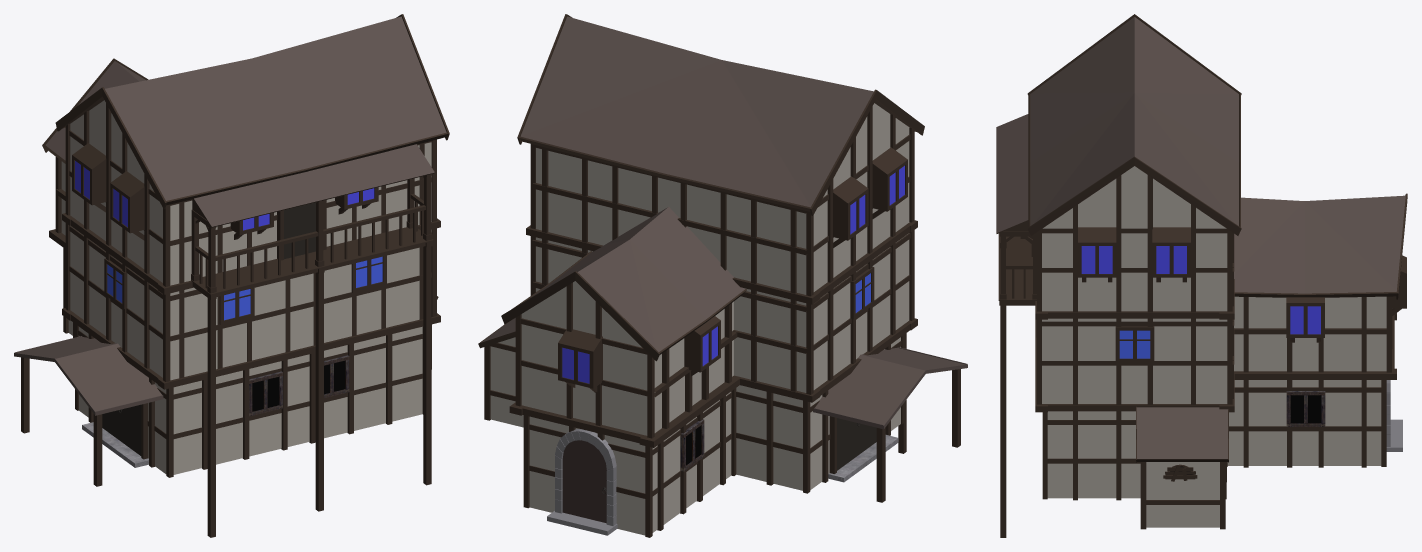
Rendered from House_Cap_6.glb.
The picture shows the model from 3 angles, left to right: view 1: azimuth 30°, elevation 25°; view 2: azimuth 150°, elevation 25°; view 3: azimuth 270°, elevation 25°; orthographic projection. The views are drawn at different scales.
Visible parts, largest first — view 1: House_Cap_6; view 2: House_Cap_6; view 3: House_Cap_6.
Part boxes in pixels (x1,y1,x2,y2): House_Cap_6: (14,14,449,537); House_Cap_6: (478,14,967,537); House_Cap_6: (996,14,1407,537).
Bounding box in the file's own units: 8.29 × 8.45 × 7.88.
31 materials, 31 textured.
